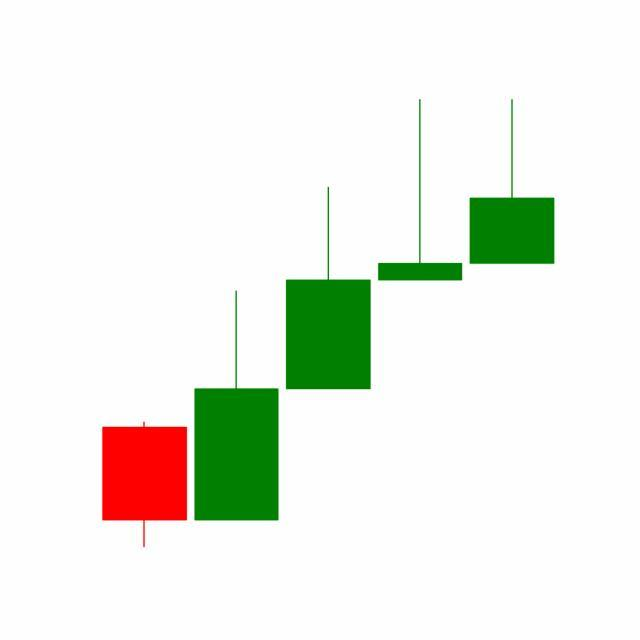Gravestone Doji: (374, 98, 468, 283)
